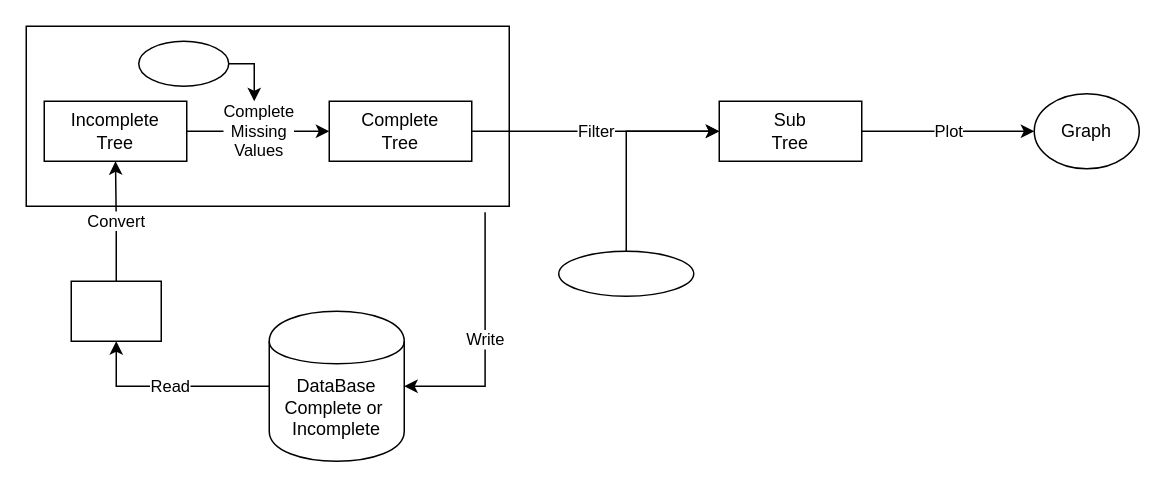
The diagram is 1166 pixels wide and 488 high, and some of its shapes have lost their labels. Here are the shapes that lost their labels. From the top down, the box of each, then its label:
(137, 40, 229, 86): IA
(557, 250, 694, 296): Filtering/display options
(70, 280, 161, 341): Table
